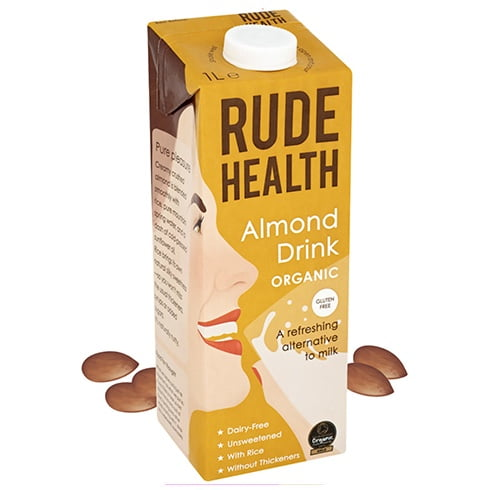carton: (133, 8, 365, 490)
